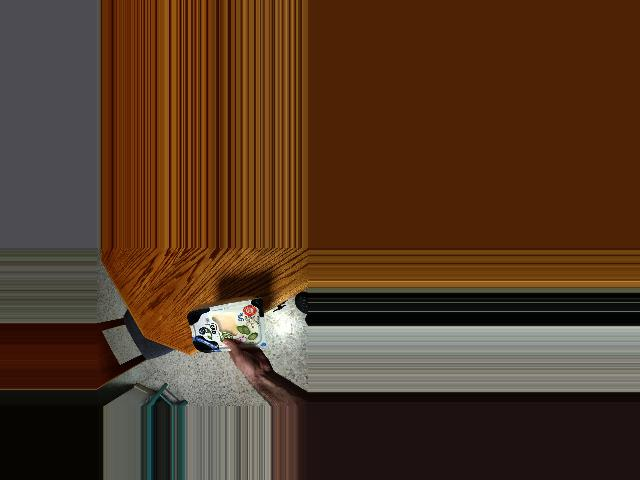cheese: (188, 293, 270, 366)
